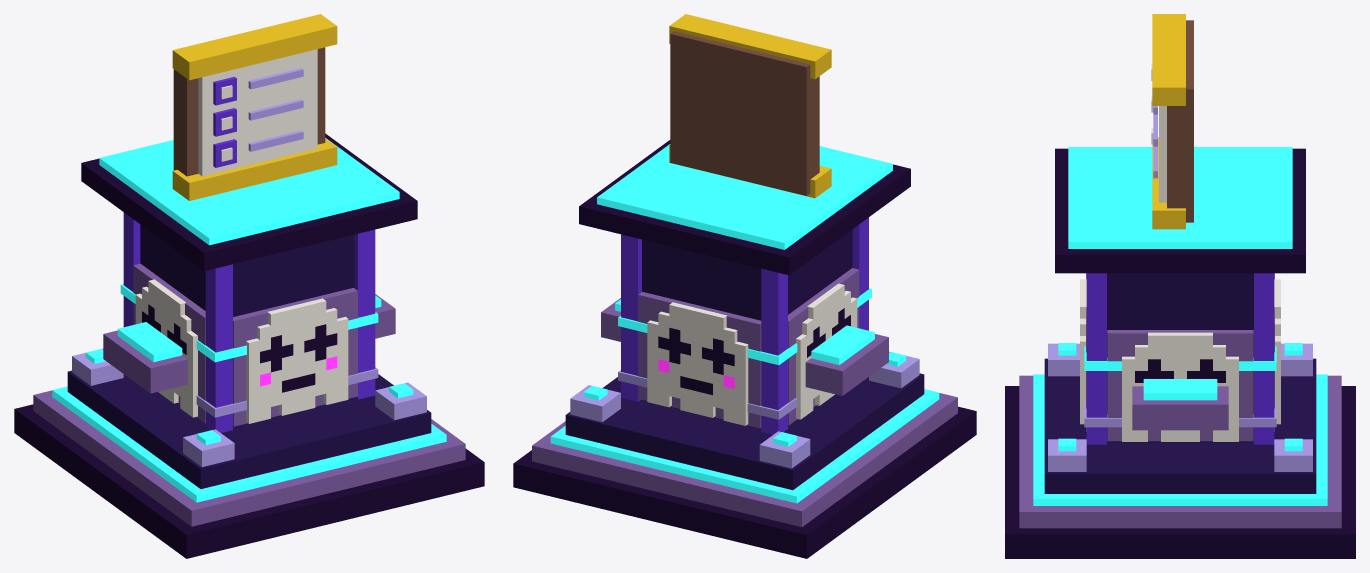
File: task-tier-2.glb
The picture shows the model from 3 angles, left to right: view 1: azimuth 30°, elevation 25°; view 2: azimuth 150°, elevation 25°; view 3: azimuth 270°, elevation 25°; orthographic projection. The views are drawn at different scales.
Parts seen in each view (by area): view 1: base-ink, base-deep, base-teal, base-stone, base-cream, crown-cream, crown-gold, base-purple, base-lavender, crown-wood, crown-lavender, crown-purple; view 2: base-ink, base-deep, base-teal, crown-wood, base-stone, base-cream, base-purple, base-lavender, crown-gold; view 3: base-teal, base-deep, base-ink, base-stone, base-cream, base-purple, base-lavender, crown-gold, crown-wood, crown-cream.
Boxes of the visible parts, x1,y1,x2,y2 form: base-ink: (14, 133, 484, 558); base-deep: (67, 224, 431, 488); base-teal: (52, 138, 446, 502); base-stone: (33, 263, 465, 526); base-cream: (135, 279, 348, 423); crown-cream: (198, 49, 317, 176); crown-gold: (172, 14, 337, 200); base-purple: (123, 212, 375, 432); base-lavender: (72, 348, 426, 466); crown-wood: (173, 47, 325, 176); crown-lavender: (248, 68, 303, 151); crown-purple: (213, 77, 236, 167); base-ink: (513, 140, 976, 558); base-deep: (565, 229, 924, 490); base-teal: (550, 144, 939, 503); crown-wood: (670, 31, 819, 195); base-stone: (532, 268, 957, 527); base-cream: (647, 283, 857, 425); base-purple: (621, 217, 868, 434); base-lavender: (570, 351, 919, 468); crown-gold: (669, 14, 831, 198); base-teal: (1033, 147, 1327, 505); base-deep: (1044, 273, 1316, 493); base-ink: (1005, 148, 1355, 558); base-stone: (1019, 273, 1341, 528); base-cream: (1080, 279, 1280, 441); base-purple: (1086, 273, 1274, 444); base-lavender: (1048, 343, 1312, 471); crown-gold: (1152, 14, 1185, 229); crown-wood: (1167, 20, 1193, 222); crown-cream: (1151, 64, 1166, 202).
Size of the model in its own units: 3.1 by 4.23 by 3.1.
